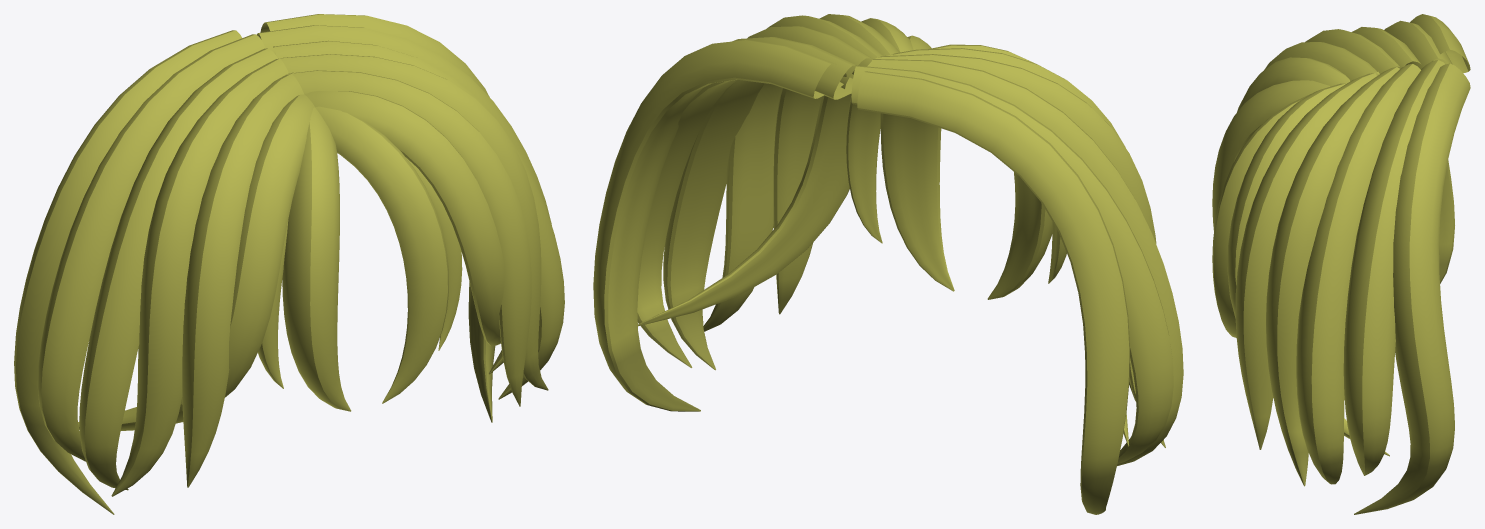
The model's file is Rambut Tharok.fbx.
The picture shows the model from 3 angles, left to right: view 1: azimuth 30°, elevation 25°; view 2: azimuth 150°, elevation 25°; view 3: azimuth 270°, elevation 25°; orthographic projection. The views are drawn at different scales.
Parts seen in each view (by area): view 1: Rambut Tharok; view 2: Rambut Tharok; view 3: Rambut Tharok.
Part boxes in pixels (box(x1,y1,x2,y2)): Rambut Tharok: box(14, 14, 564, 514); Rambut Tharok: box(593, 14, 1183, 514); Rambut Tharok: box(1212, 14, 1470, 514).
Bounding box in the file's own units: 258 × 194 × 121.
